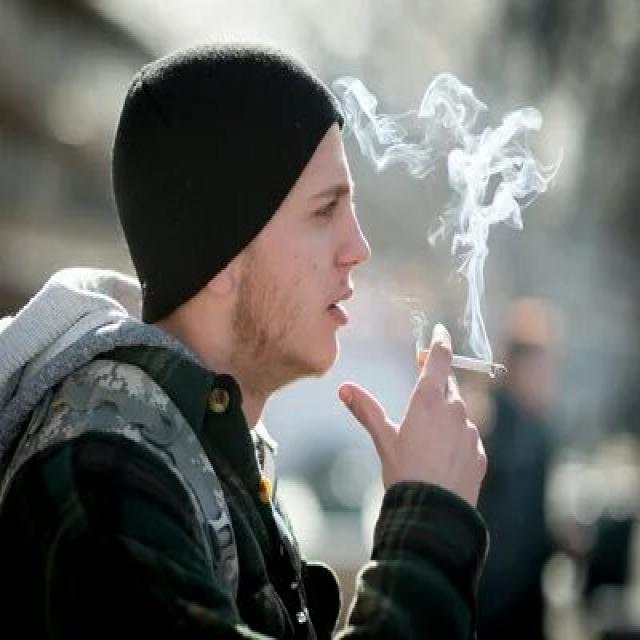cigarette: (414, 344, 517, 388)
